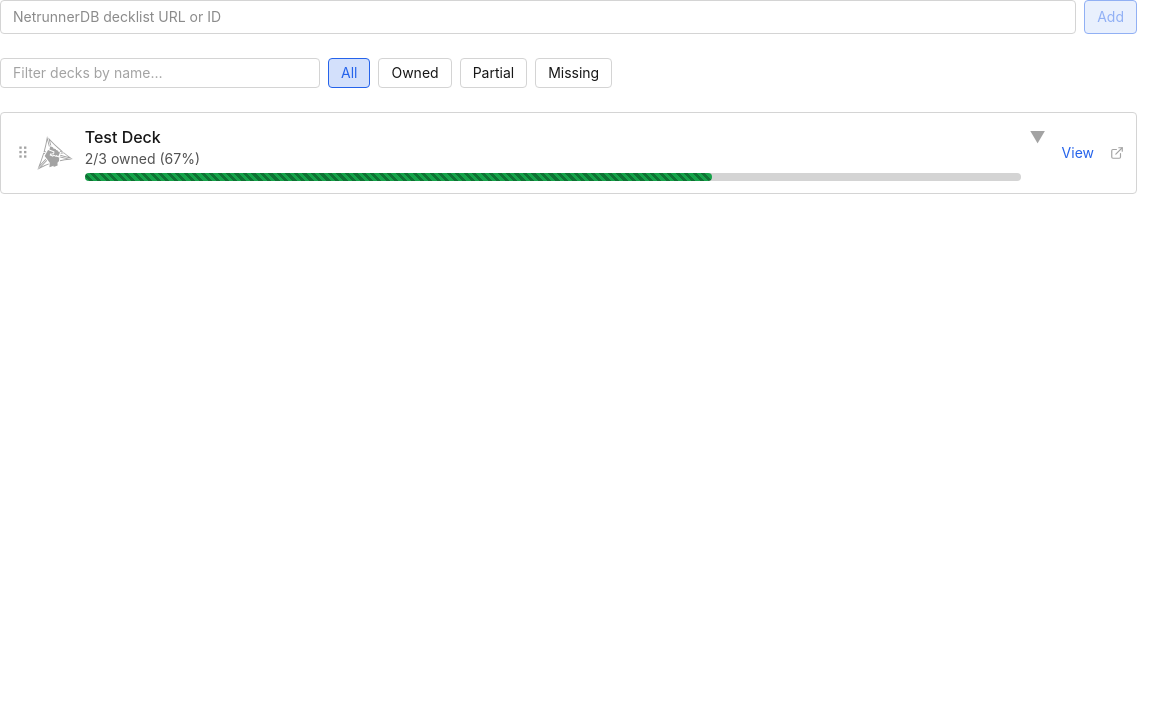
Scenario: DeckSection › links each found card to its detail popup
This screenshot has width=1152, height=720.
Click the button "Test Deck 2/3 owned (67%) ▼" at [123, 137], box left=85, top=125, right=1046, bottom=181
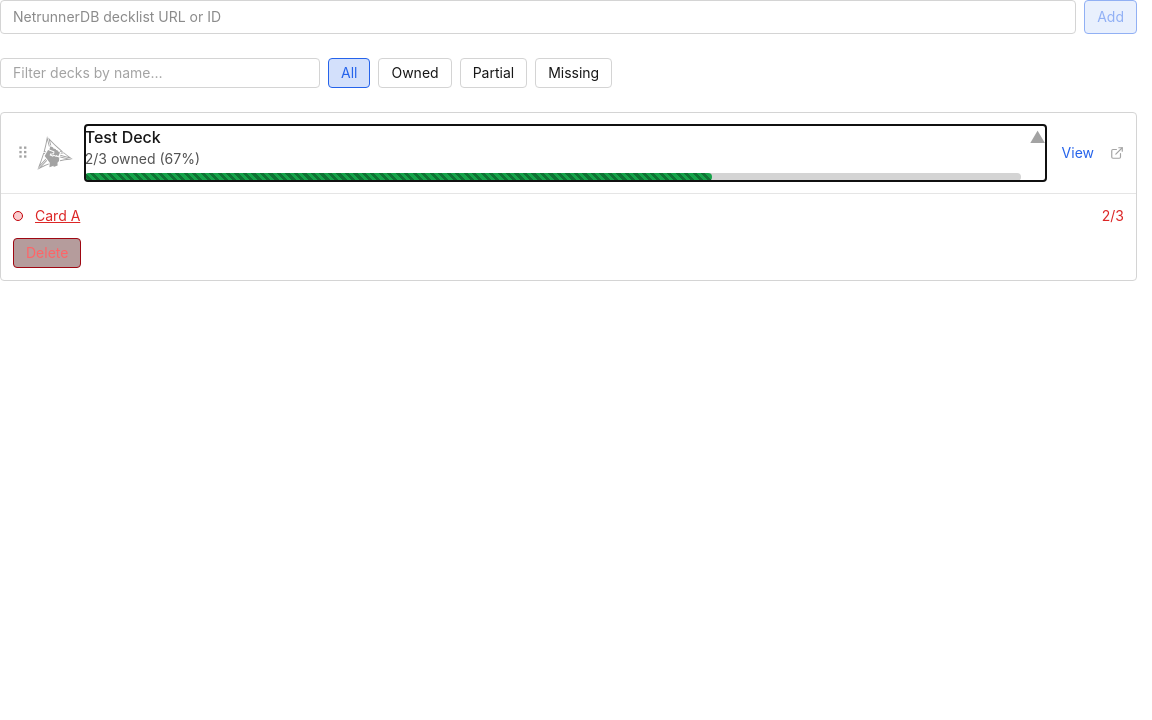
Click the button with aria-label "Show details for Card A" at [58, 216], box left=35, top=206, right=80, bottom=226
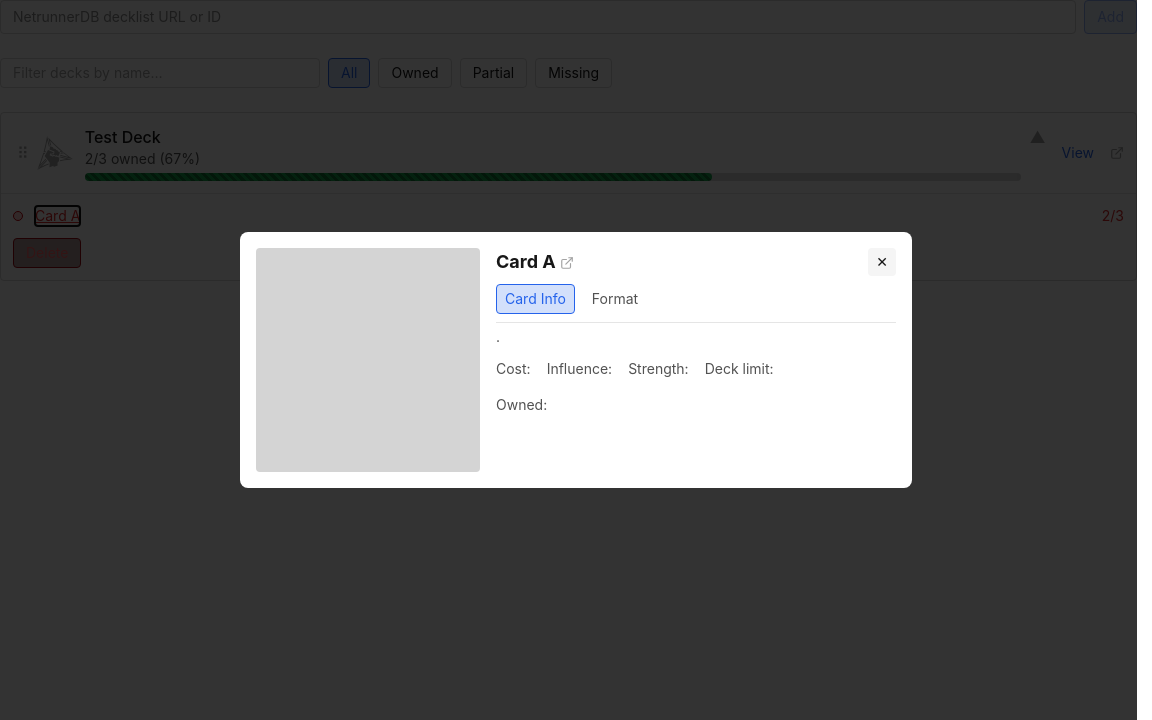
Expected: the heading "Card A" is shown, left=496, top=248, right=574, bottom=276
